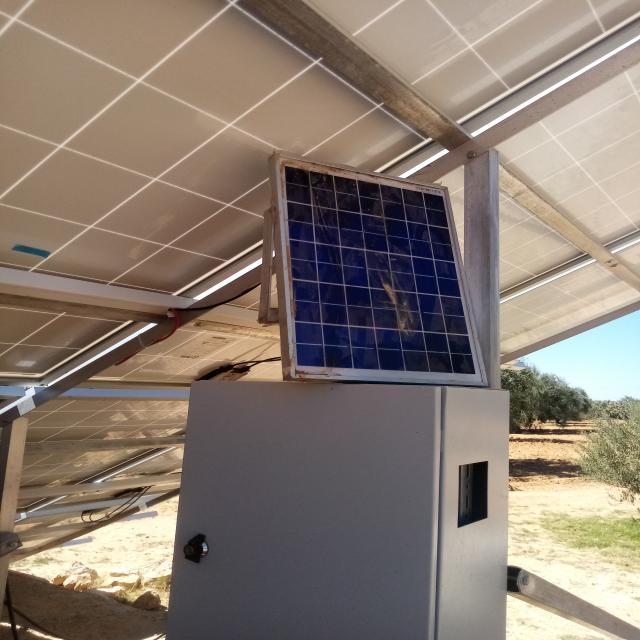faulty: (277, 153, 487, 382)
